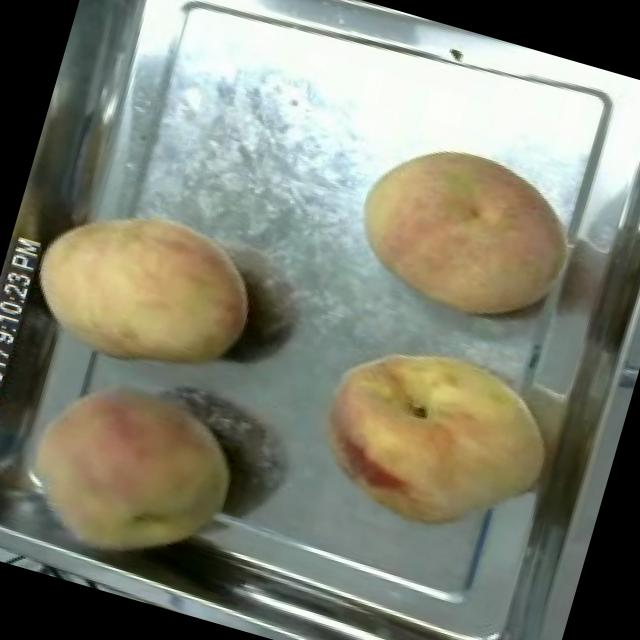Fruit: (290, 312, 572, 562), (0, 347, 264, 600), (11, 178, 278, 403), (336, 116, 594, 345)
